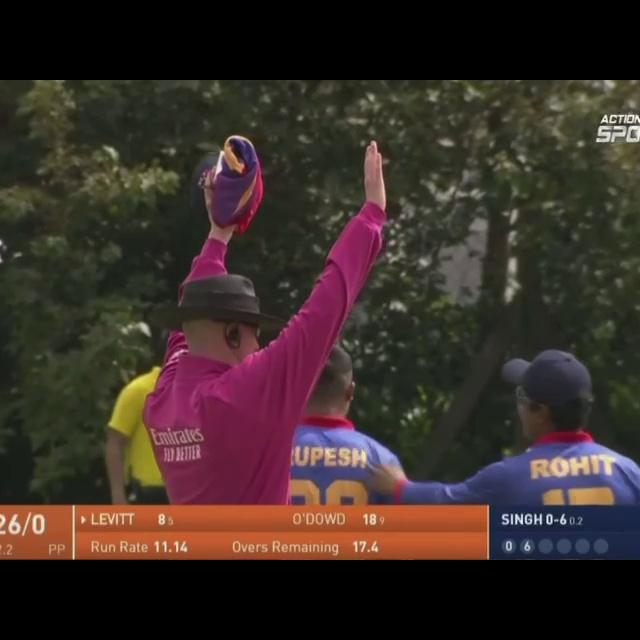umpire: (135, 80, 451, 427)
